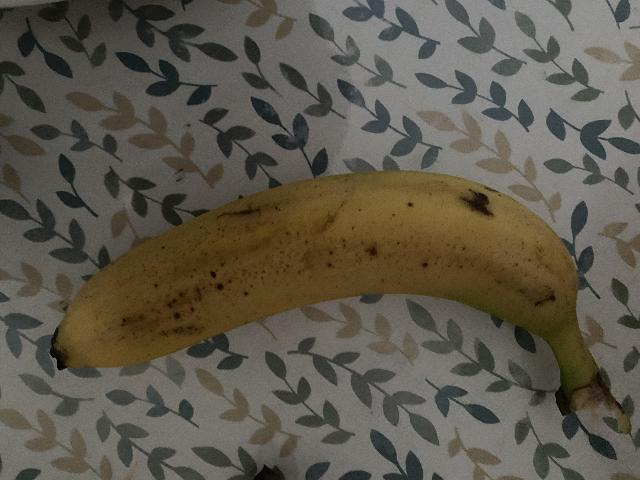Organik: (48, 175, 627, 417)
